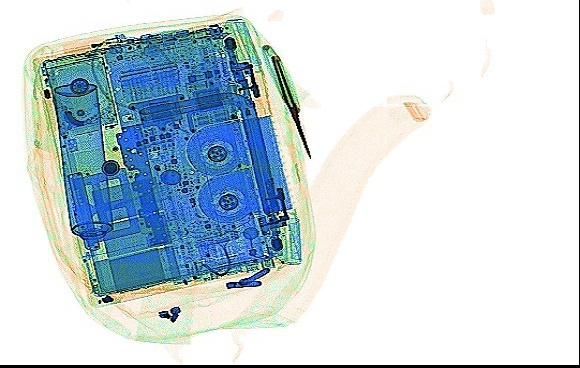pressure: (51, 81, 115, 250)
scissors: (259, 42, 311, 159)
